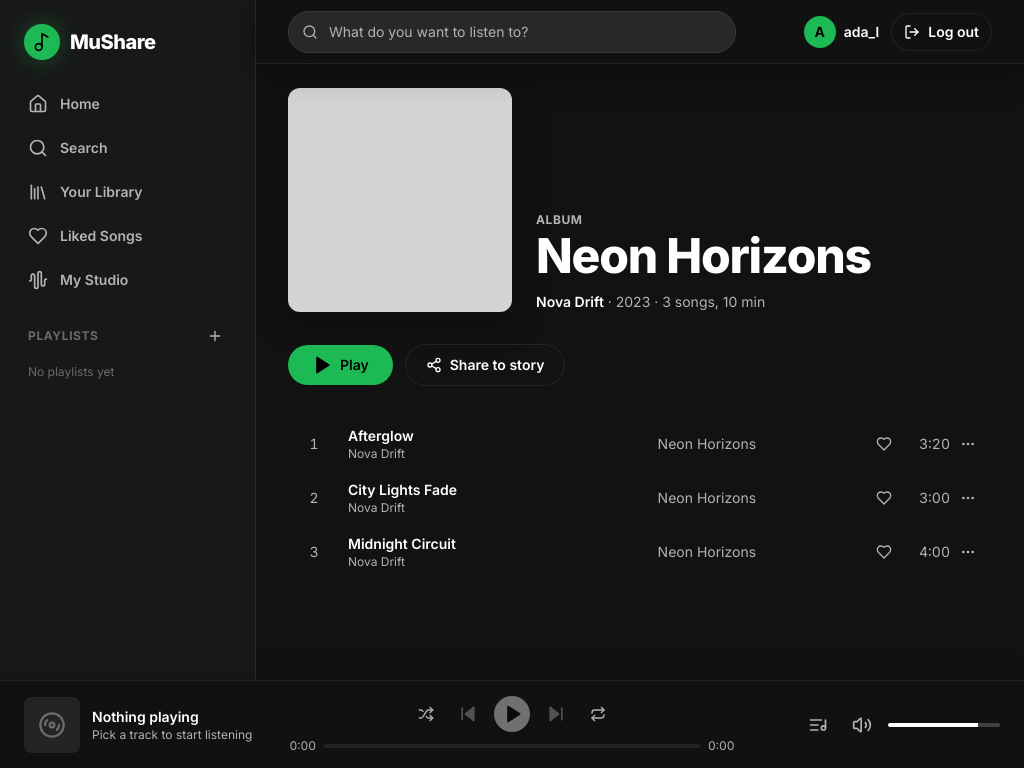
Test: favorites › rolls the heart back and says why when the request fails
The image size is (1024, 768).
Expected: the heading "Neon Horizons" is shown, [536,232,871,280]
Click the button named "Save Afterglow to Liked Songs" at (884, 444), box [868,428,900,460]
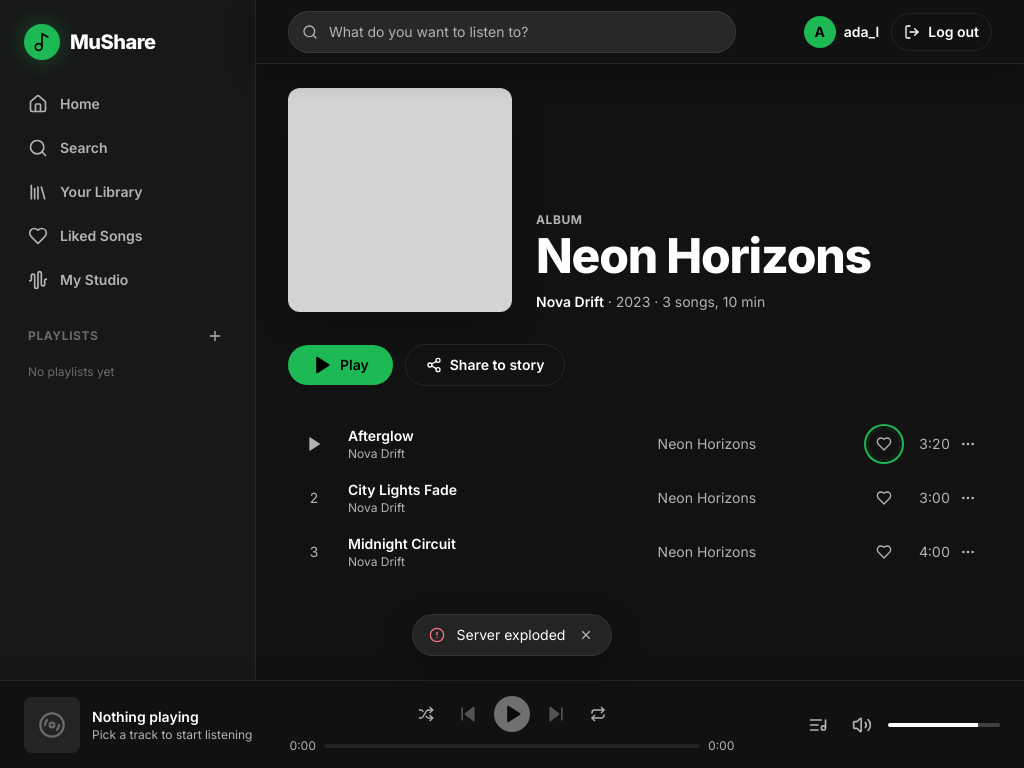
Now the text "Server exploded" is shown, box [457,625,565,645]
